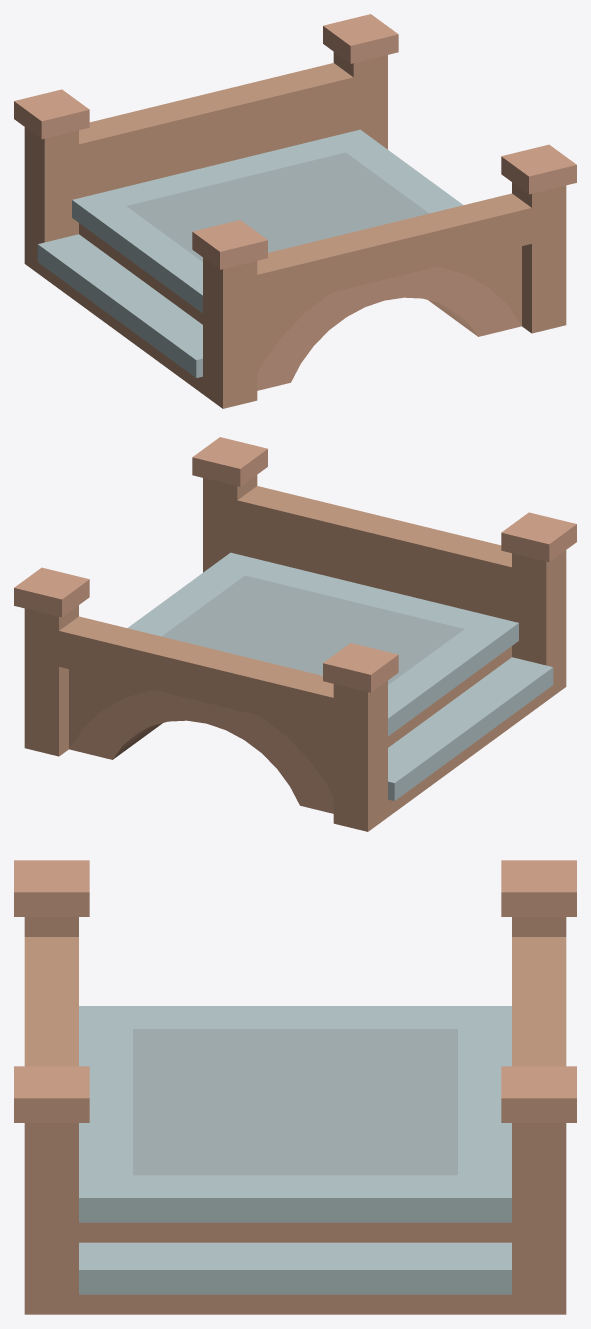
The model's file is bridge_woodRound.glb.
3 views of the same model, one above another, from view 1: azimuth 30°, elevation 25°; view 2: azimuth 150°, elevation 25°; view 3: azimuth 270°, elevation 25° (orthographic). The views are drawn at different scales.
Parts seen in each view (by area): view 1: bridge_woodRound; view 2: bridge_woodRound; view 3: bridge_woodRound.
Boxes of the visible parts, x1,y1,x2,y2 form: bridge_woodRound: (14,14,576,408); bridge_woodRound: (14,437,576,831); bridge_woodRound: (14,860,576,1314).
Size of the model in its own units: 1.04 by 0.45 by 1.04.
